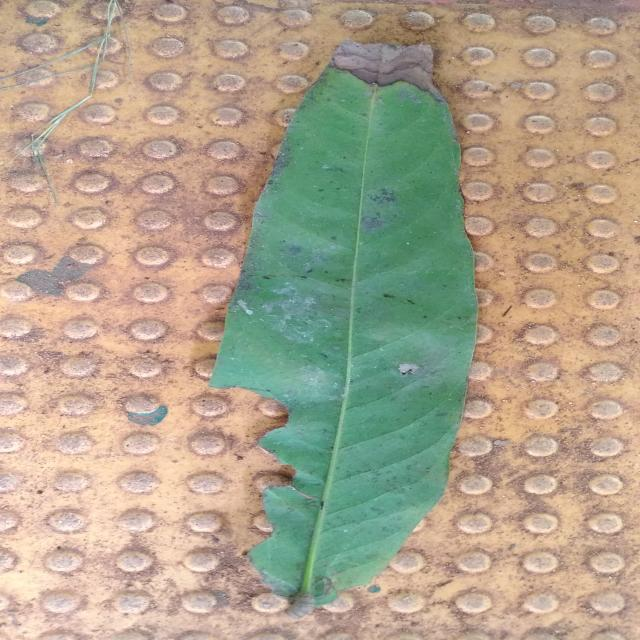seethaashoka: (211, 40, 478, 614)
